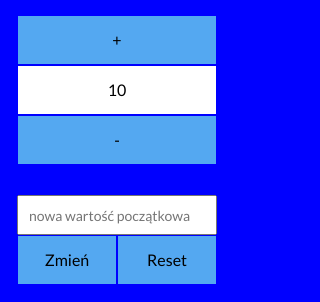
Test: Counter E2E tests › should change initial state when number provided in input and button clicked
Type "abc" into the number field with test id "input" at [117, 215], box x1=17 y1=195 x2=217 y2=235
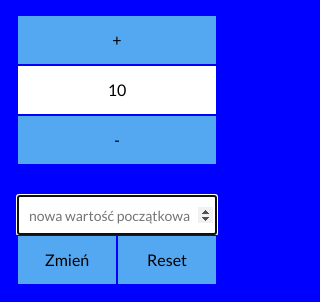
Type "44" into the number field with test id "input" at [117, 215], box x1=17 y1=195 x2=217 y2=235
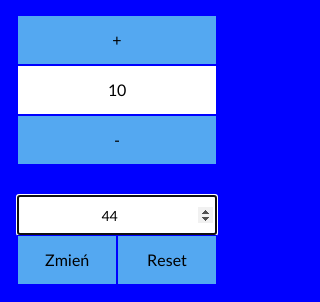
Submit the form with test id "form", box x1=17 y1=195 x2=217 y2=285
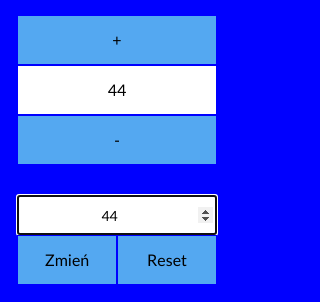
expect the text with test id "result" reads "44": met, box x1=17 y1=65 x2=217 y2=115
